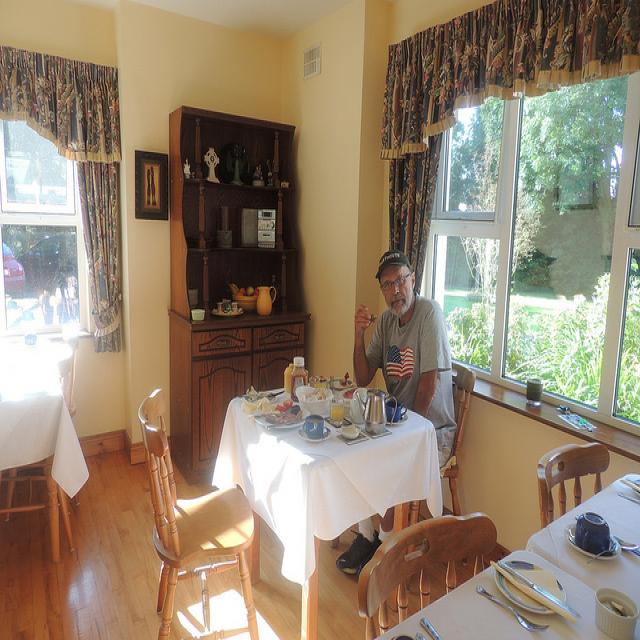chair: (138, 389, 258, 640), (362, 512, 502, 632), (5, 340, 80, 555), (536, 442, 611, 526)
dining table: (209, 399, 444, 640), (383, 470, 640, 634), (1, 337, 94, 559)
